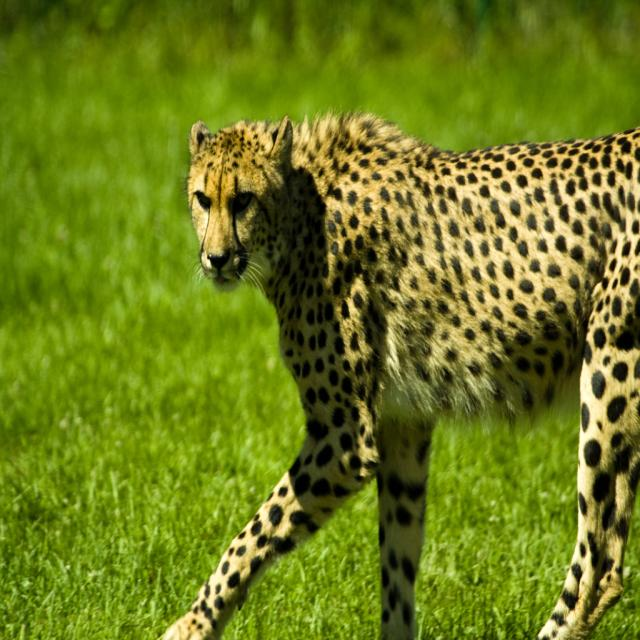Cheetah: (163, 103, 640, 640)
